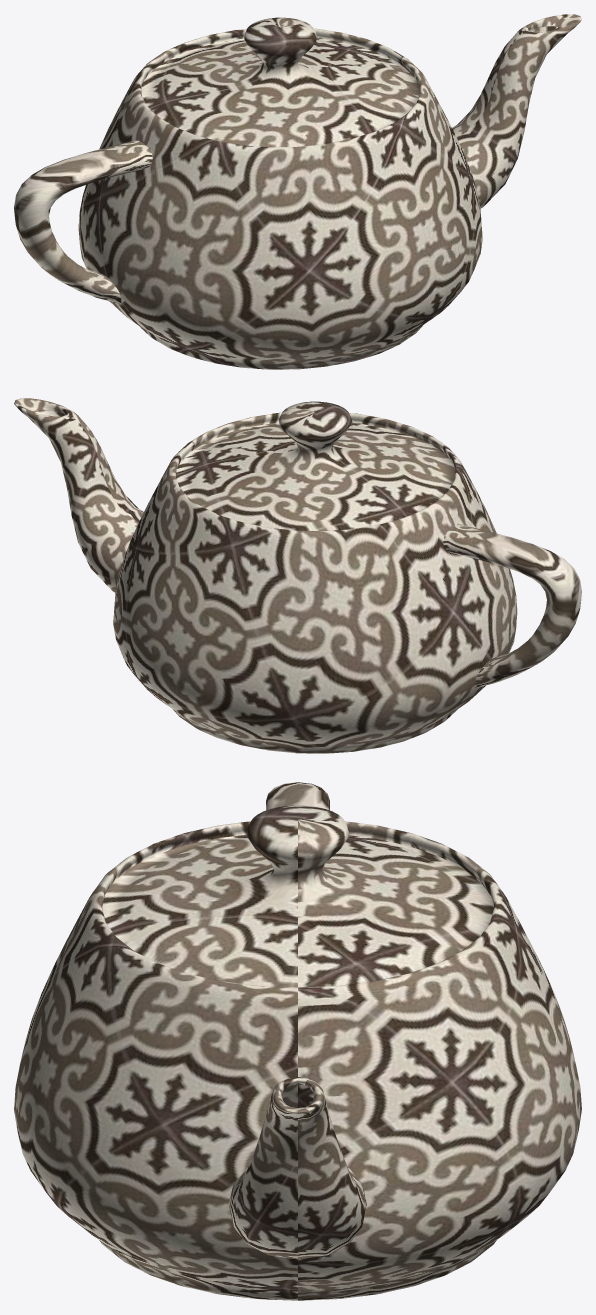
The picture shows the model from 3 angles, top to bottom: view 1: azimuth 30°, elevation 25°; view 2: azimuth 150°, elevation 25°; view 3: azimuth 270°, elevation 25°; orthographic projection. The views are drawn at different scales.
Visible parts, largest first — view 1: Teapot001; view 2: Teapot001; view 3: Teapot001.
Boxes of the visible parts, x1,y1,x2,y2 form: Teapot001: (14,14,581,369); Teapot001: (14,398,581,753); Teapot001: (14,782,581,1300).
Size of the model in its own units: 96.5 by 47.25 by 60.
1 material, 1 textured.
